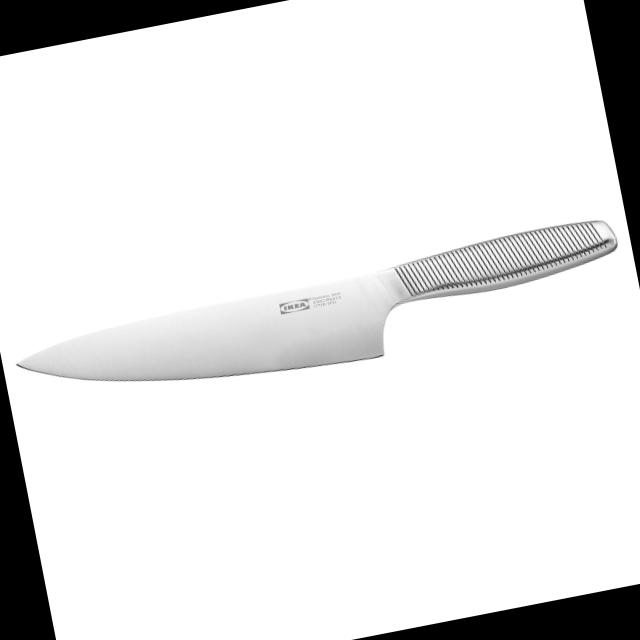Weapon: (5, 198, 640, 433)
